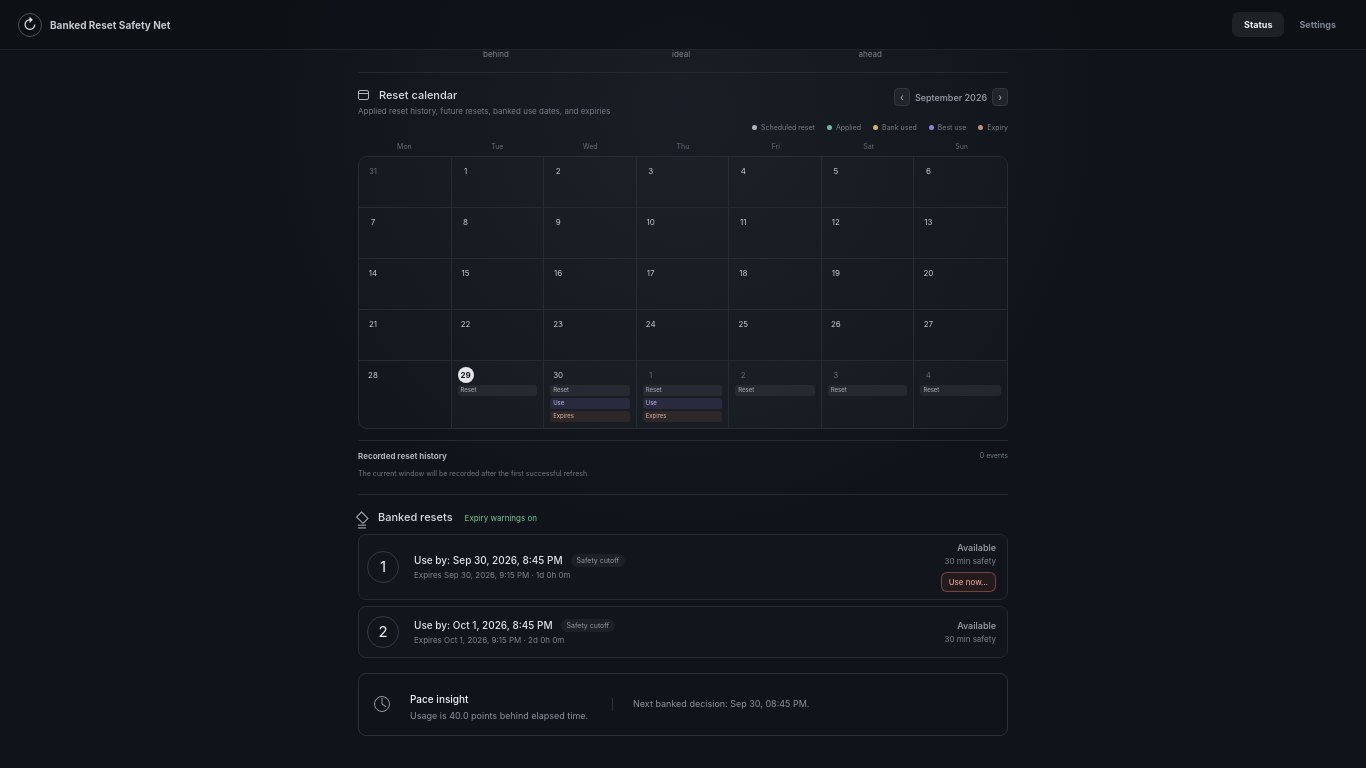
Test: App › opens manual review only for the earliest available reset
(page scrolled)
Expected: the text "Available" is shown 2 times, [957, 542, 996, 553]; [957, 620, 996, 631]
Click the button "Use now…" at (968, 582), box [941, 572, 996, 592]
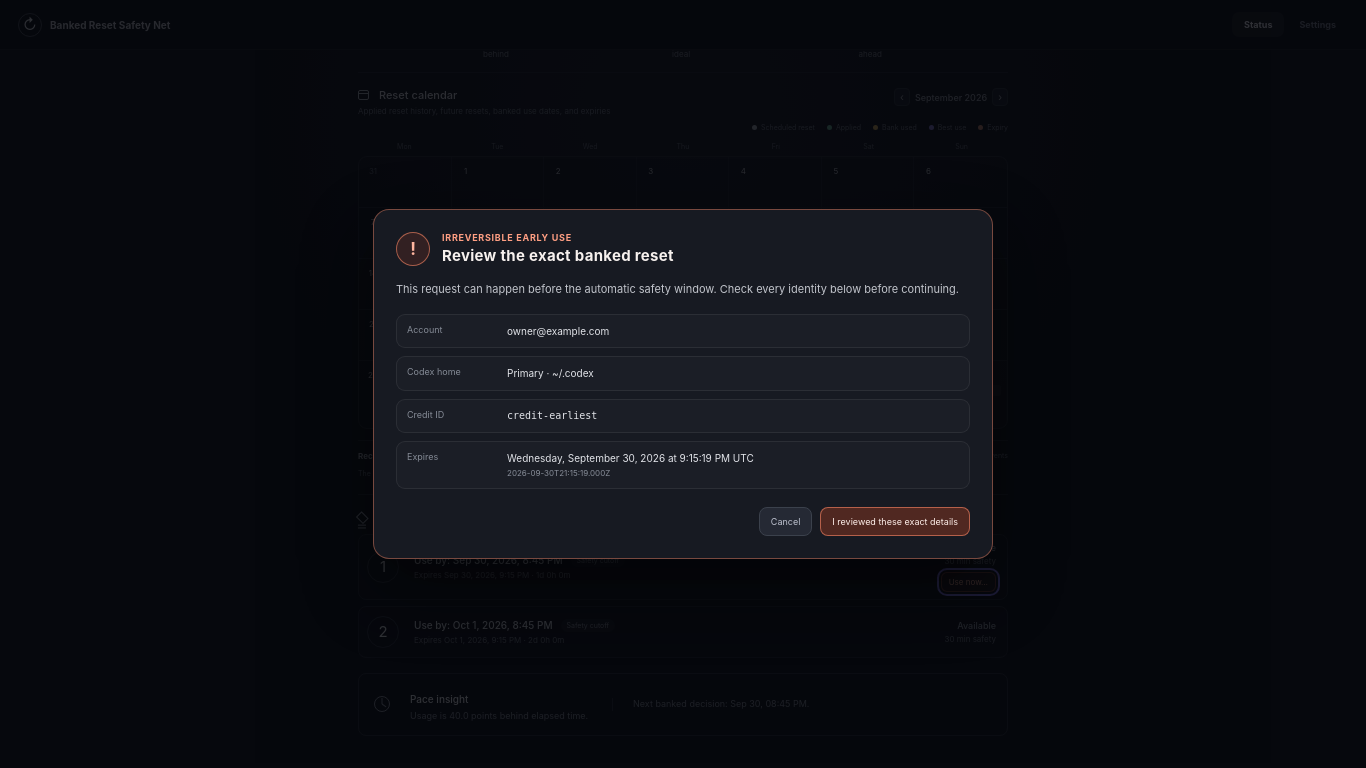
Now the dialog "Review the exact banked reset" is shown, box [373, 209, 993, 559]
